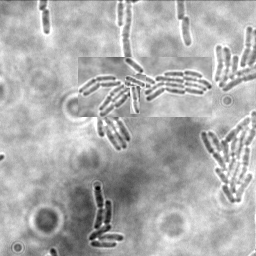Dividing: (123, 1, 142, 56), (41, 8, 52, 35), (130, 86, 140, 114)
Microcolony: (78, 57, 212, 117), (200, 109, 255, 205), (212, 25, 255, 94), (89, 184, 126, 248), (96, 117, 132, 150), (182, 16, 193, 48)
Rod: (125, 75, 146, 88)
